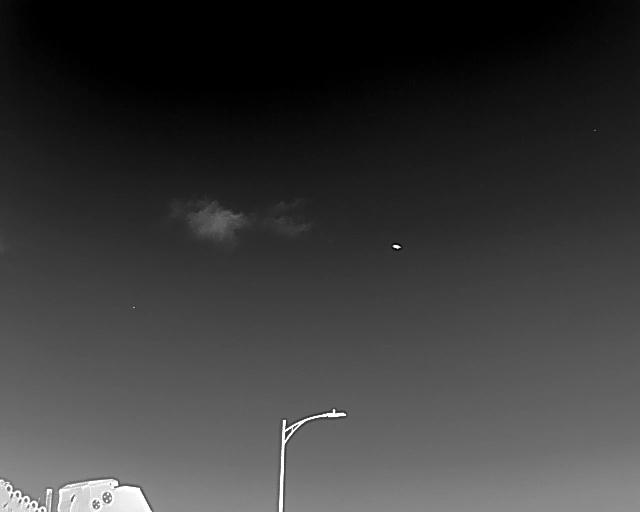fpv-drone: (391, 244, 401, 250)
